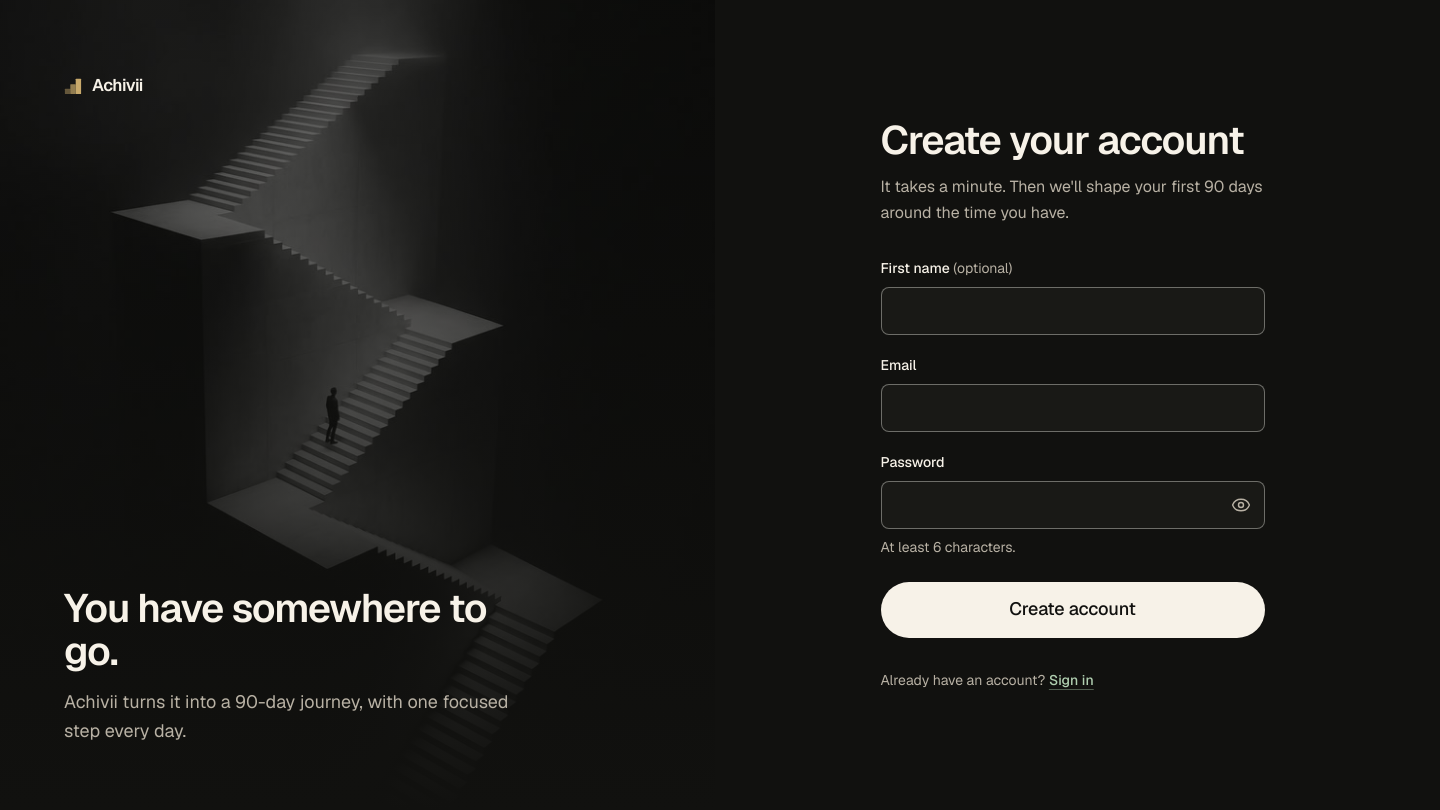
Test: sign-up and sign-in screens › validates like the backend before sending anything
Type "mo.example.com" into the field labelled "Email" at (1072, 408), box [880,384,1264,432]
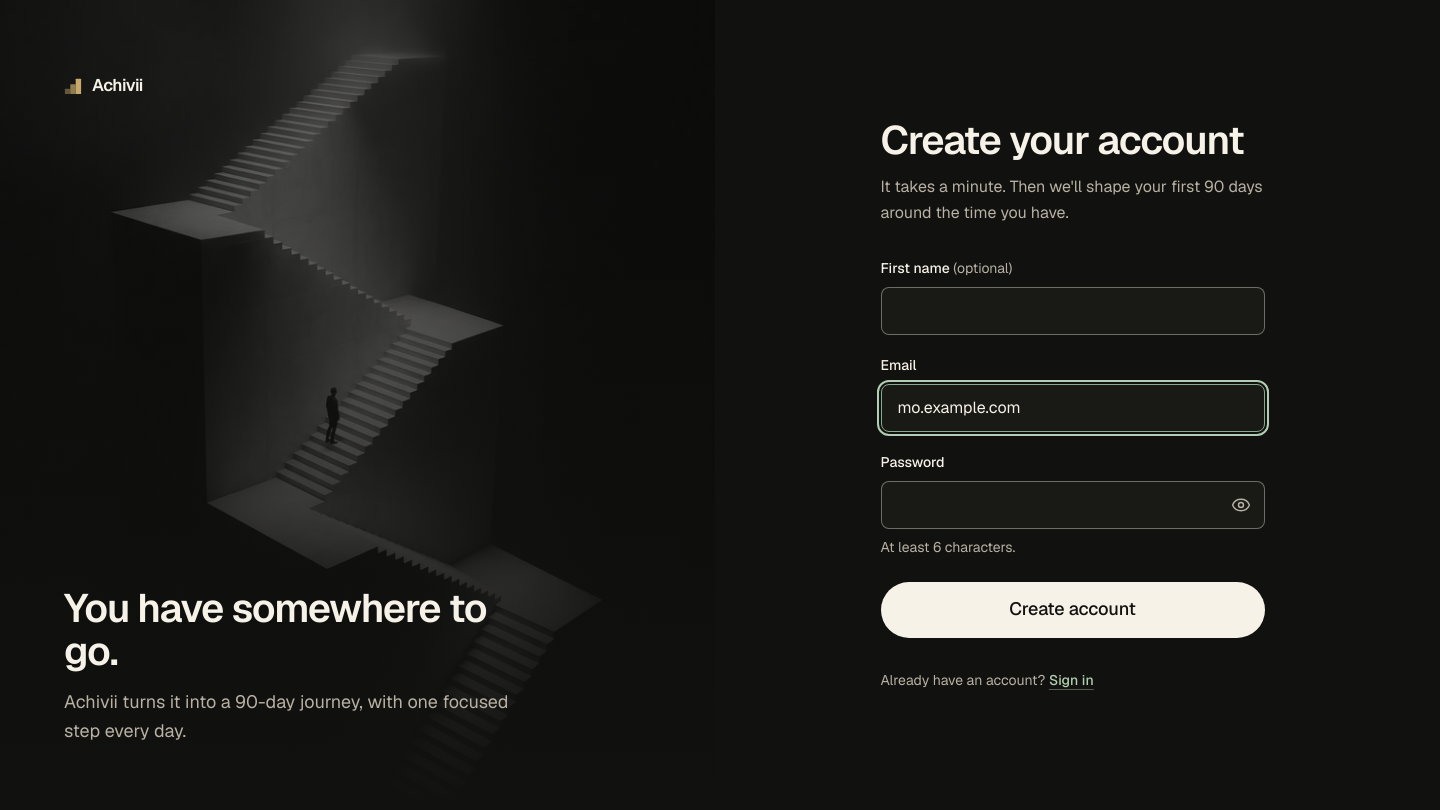
Type "12345" into the password field labelled "Password" at (1072, 504), box [880,480,1264,528]
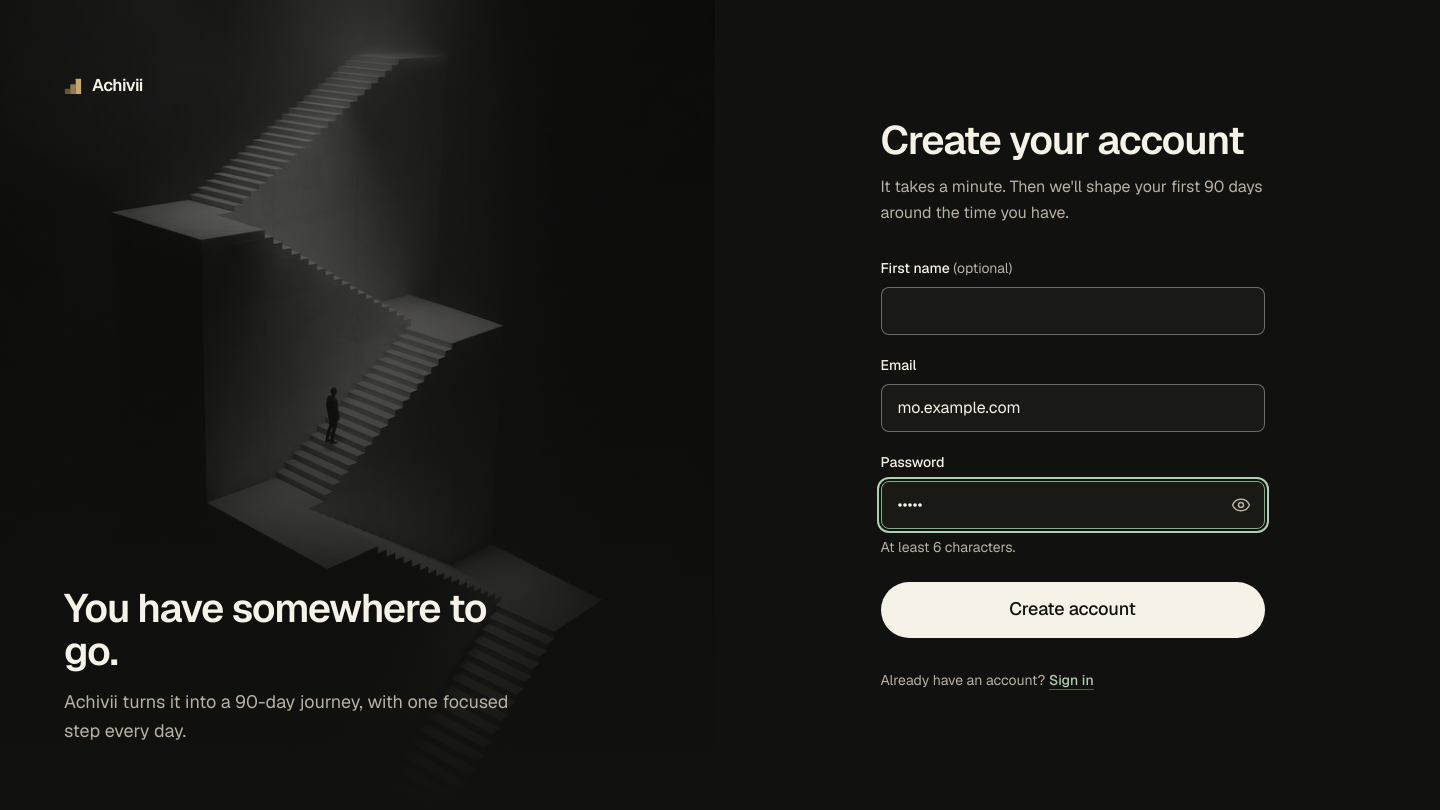
Click the button "Create account" at (1072, 610), box [880,582,1264,638]
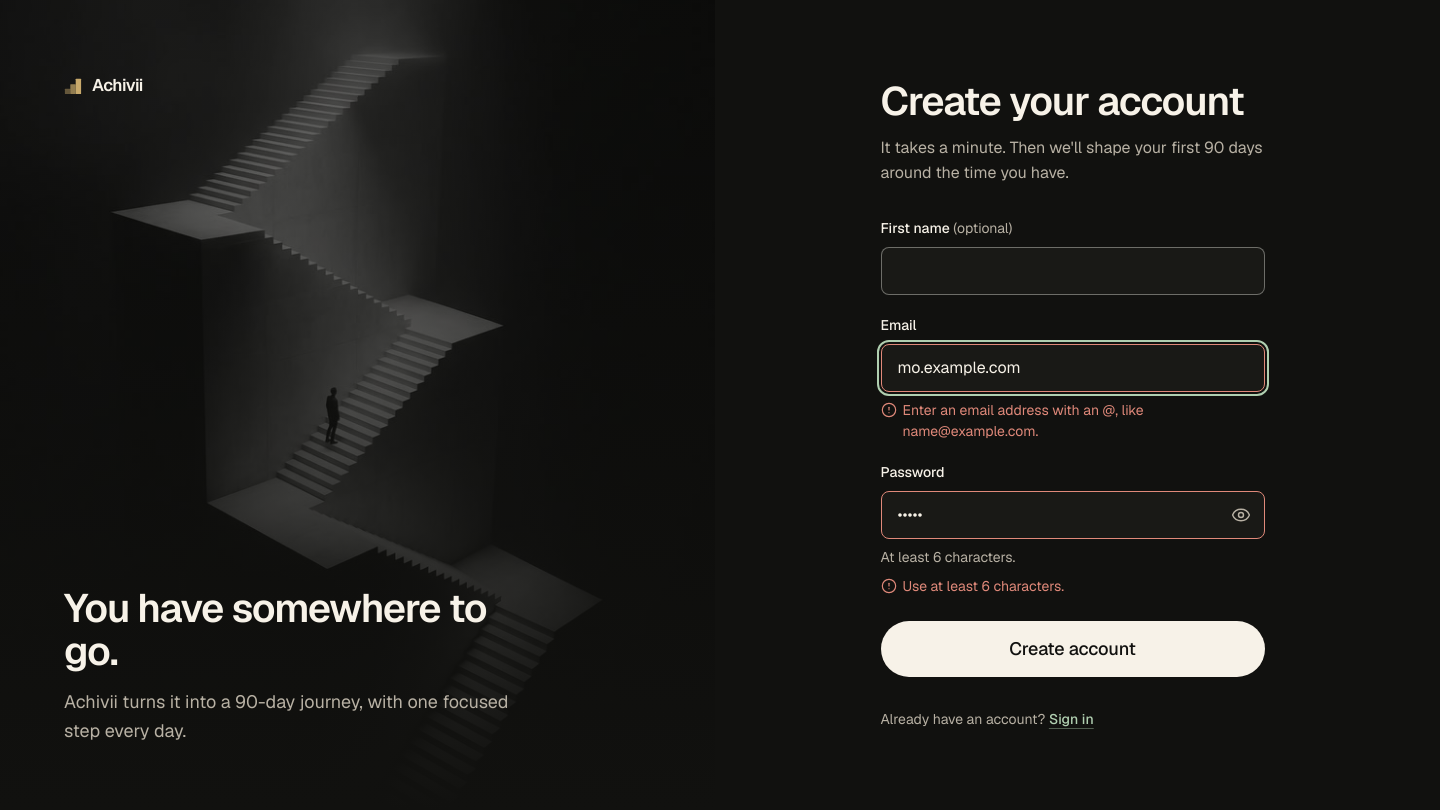
Result: the text "Enter an email address with an @, like name@example.com." is shown at [902,401,1144,440]
Result: the text "Use at least 6 characters." is shown at [902,576,1064,597]
